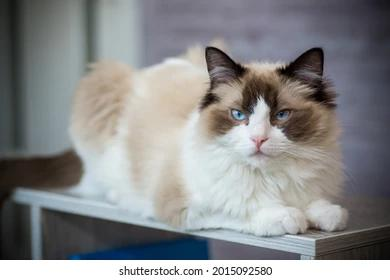ragdoll: (195, 31, 345, 183)
